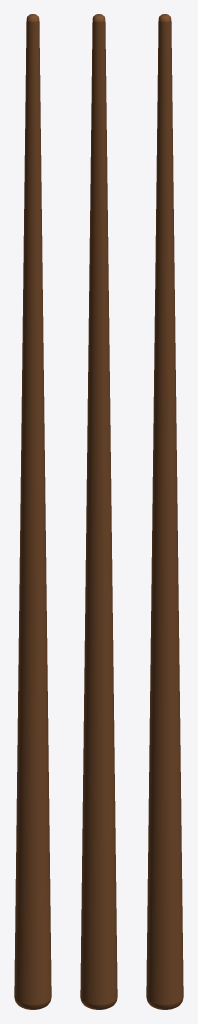
File: Rod.fbx
3 renders of one model, left to right at view 1: azimuth 90°, elevation 25°; view 2: azimuth 150°, elevation 25°; view 3: azimuth 270°, elevation 25°, orthographic.
Visible parts, largest first — view 1: Rod; view 2: Rod; view 3: Rod.
Part boxes in pixels (<box>): Rod: <box>14,14,51,1009</box>; Rod: <box>80,14,117,1009</box>; Rod: <box>146,14,183,1009</box>.
Bounding box in the file's own units: 0.4262 × 12.49 × 0.4262.
